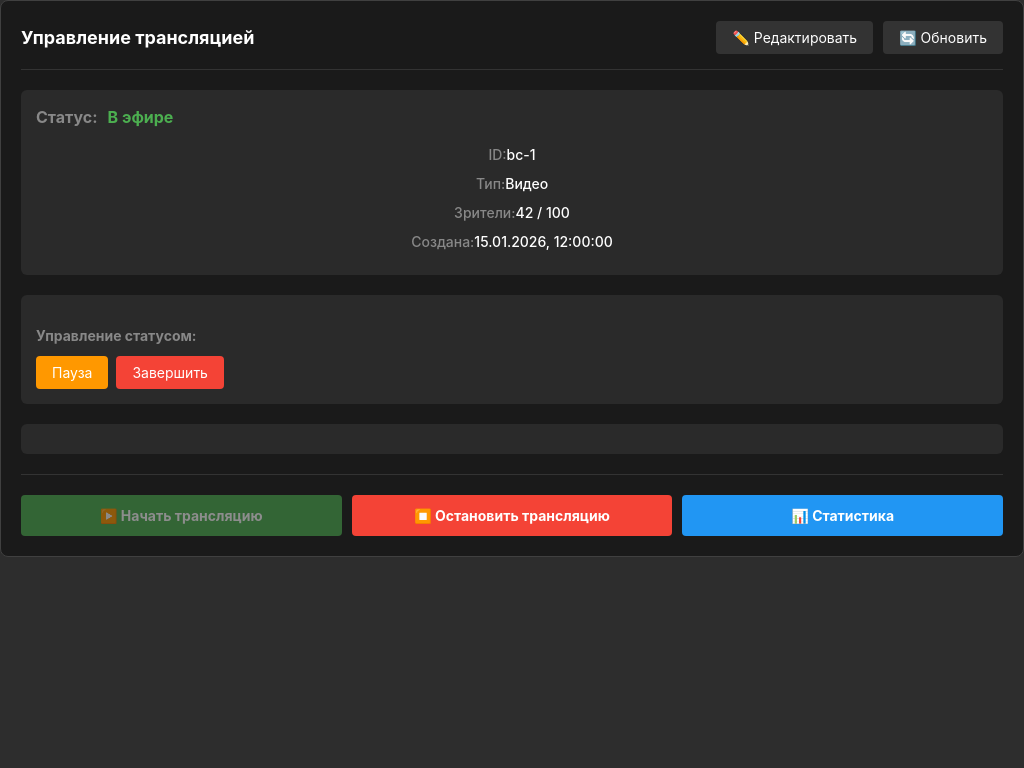
Test case: BroadcastControls › cancels editing when cancel button is clicked
# Enter edit mode
What coordinates should you click on to do the following:
click the button "✏️ Редактировать"
I would click on:
 (795, 38)
Its box is [716,21,873,54].
(page scrolled)
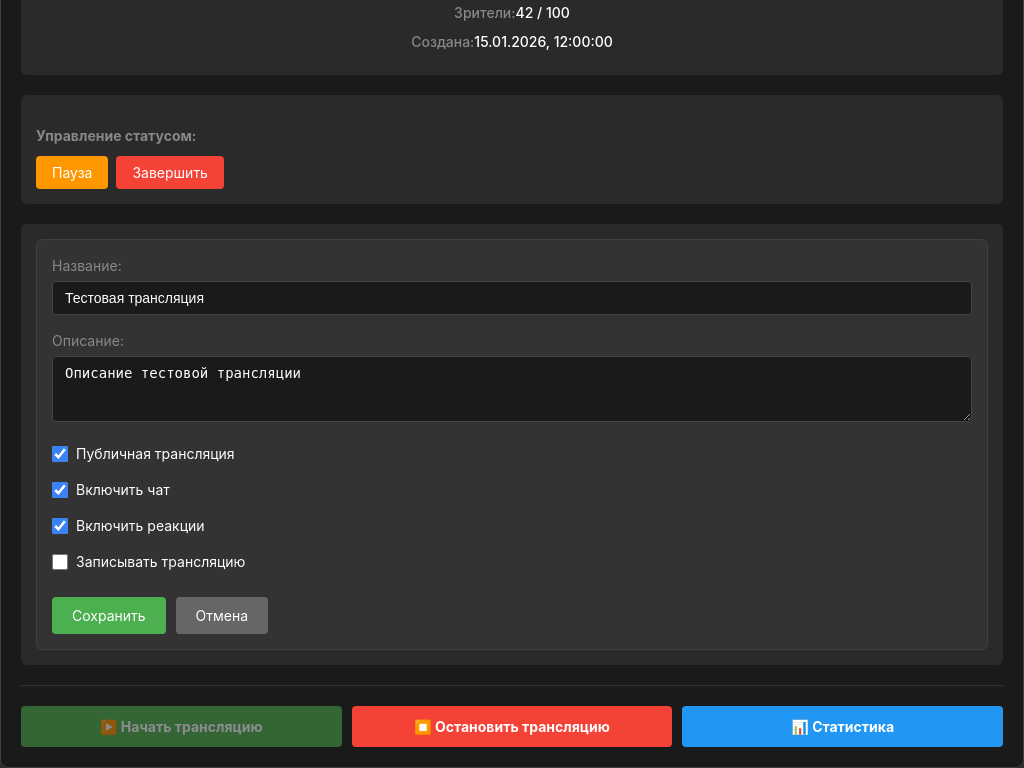
Expected: the text "Название:" is shown, [52,257,122,274]
What coordinates should you click on to do the following:
click the button "Отмена"
I would click on:
 (222, 616)
Its box is [176,597,268,634].
(page scrolled)
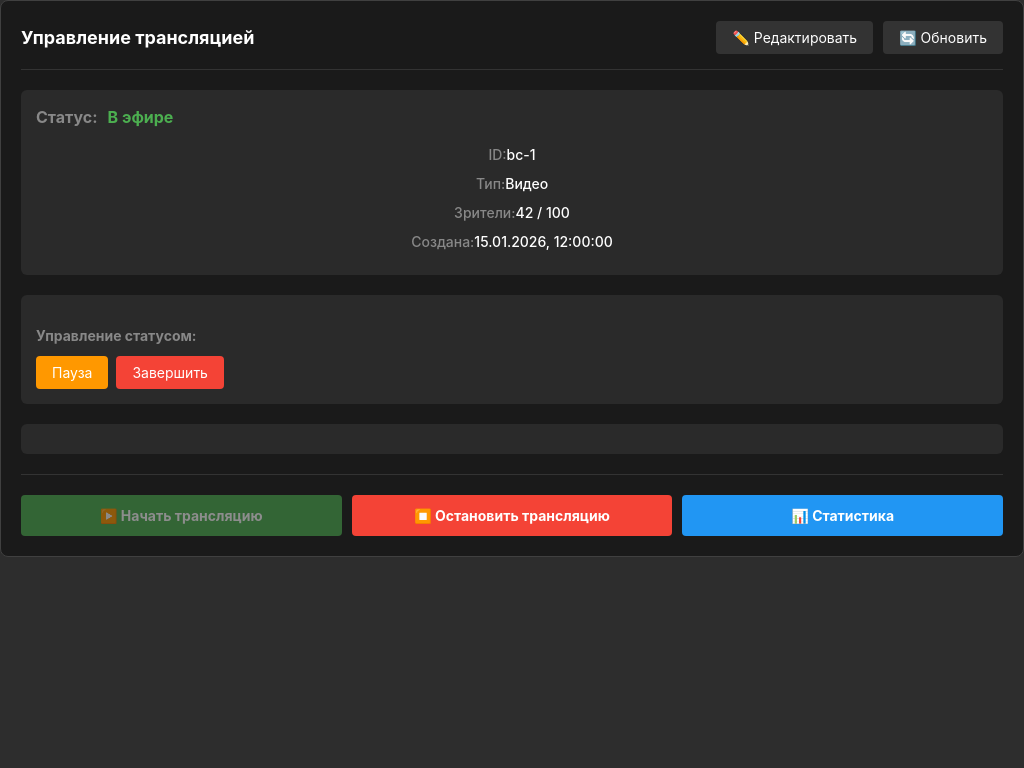
Expected: the text "Название:" is gone
